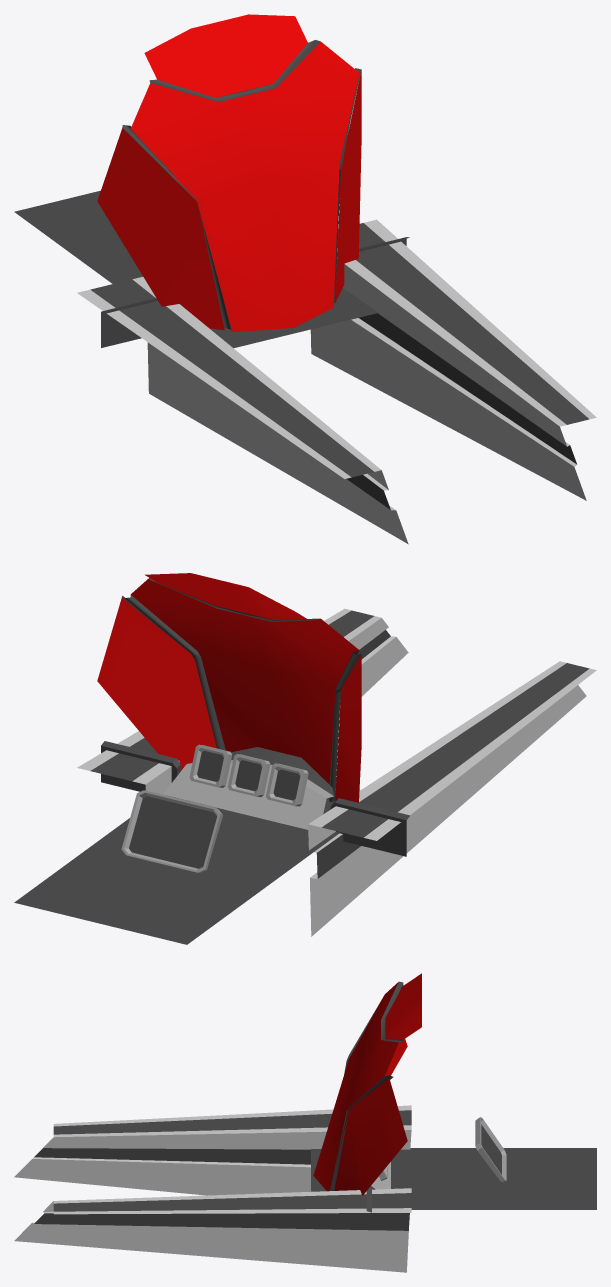
File: Starship_POV_3D.fbx
3 renders of one model, top to bottom at view 1: azimuth 30°, elevation 25°; view 2: azimuth 150°, elevation 25°; view 3: azimuth 270°, elevation 25°, orthographic. The views are drawn at different scales.
Parts seen in each view (by area): view 1: StarShip_POV; view 2: StarShip_POV; view 3: StarShip_POV.
Boxes of the visible parts, x1,y1,x2,y2 form: StarShip_POV: [14, 14, 596, 544]; StarShip_POV: [14, 573, 596, 944]; StarShip_POV: [14, 973, 596, 1272].
Size of the model in its own units: 2.44 by 2.63 by 5.49.
